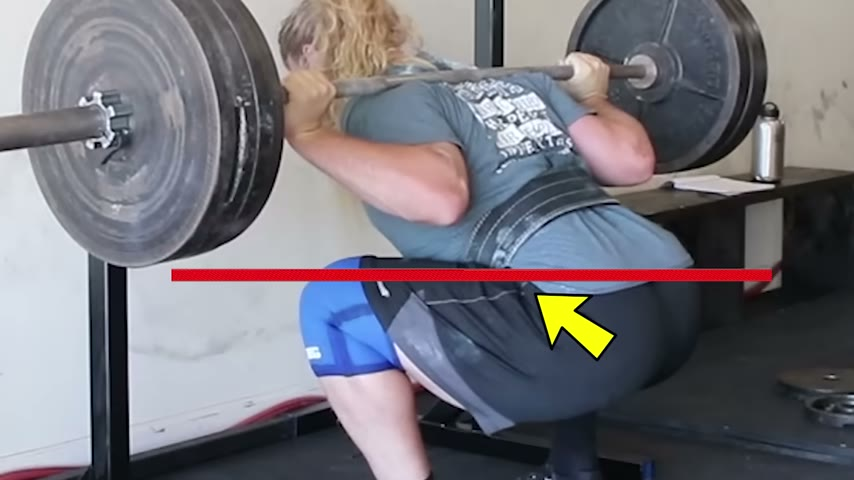barbell_plate_side: (620, 0, 788, 243), (2, 0, 125, 277), (686, 0, 788, 207)
